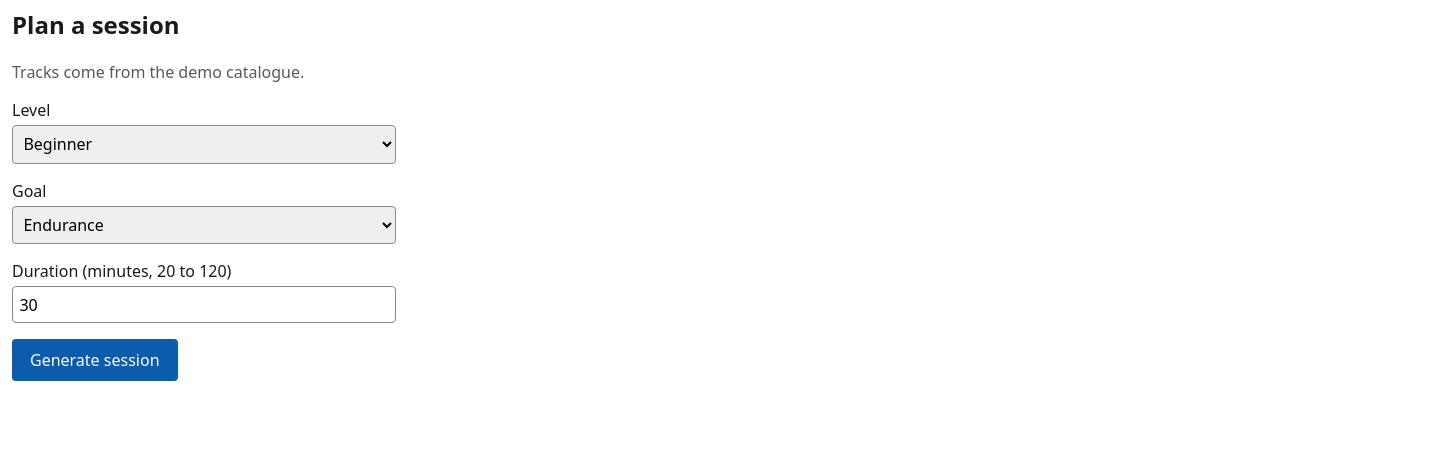
Test case: GenerateForm › gives up after the timeout with its own message
Click the button "Generate session". click: (95, 360)
box: 12,339 -> 178,381
Wait 90000 ms
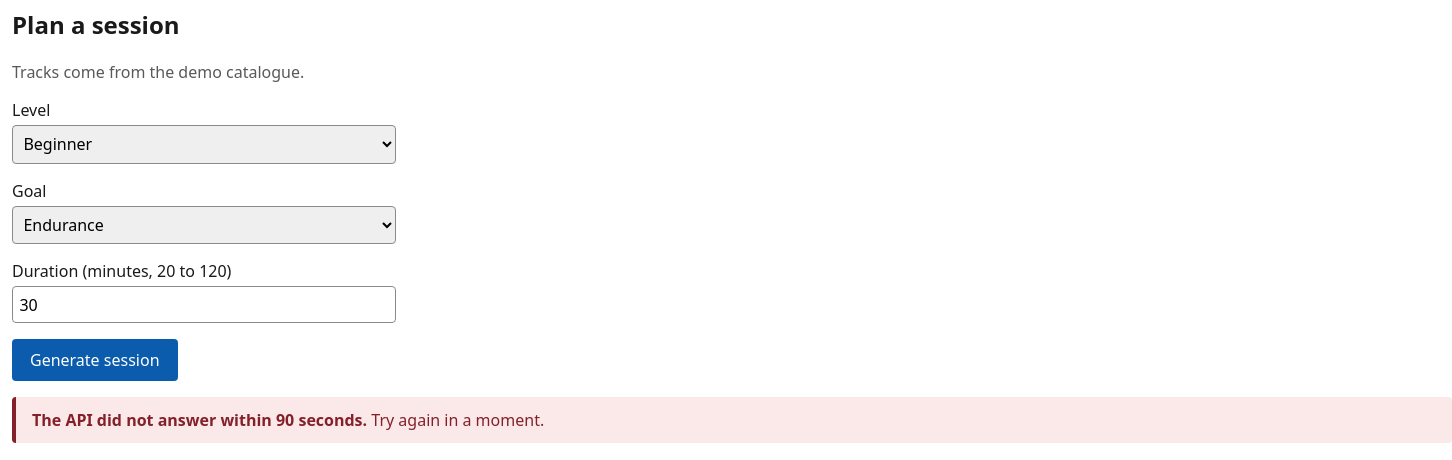
Check: the message shows "did not answer within 90 seconds", box 12,397 -> 1451,443
